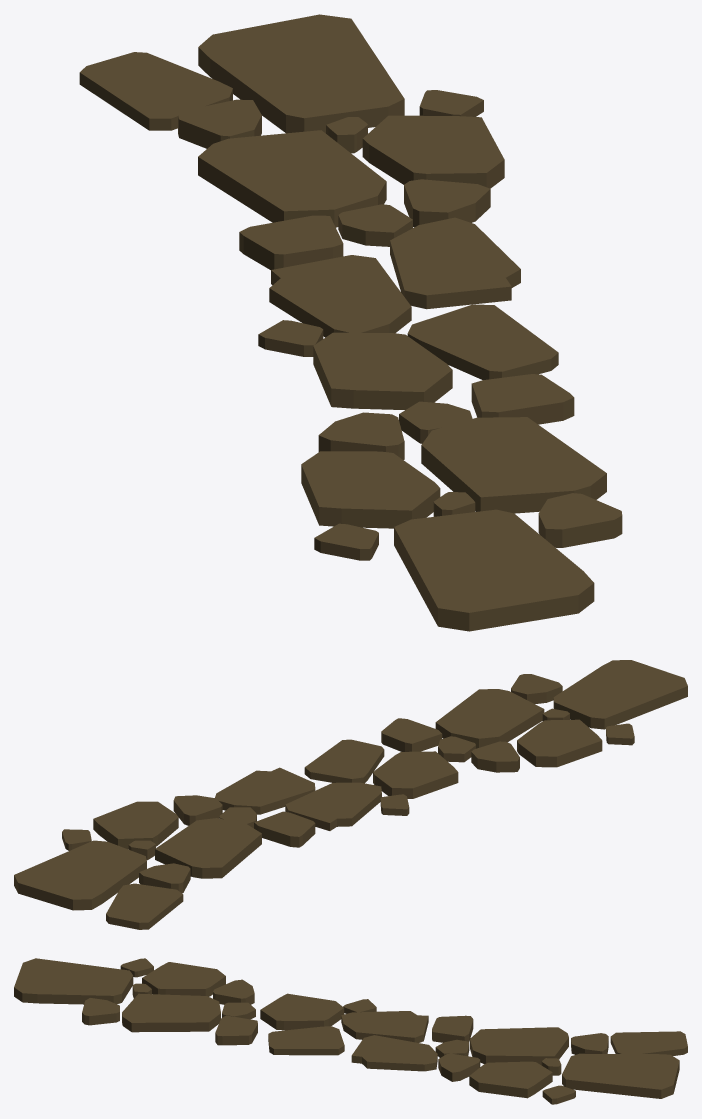
File: stone_path1.obj
3 renders of one model, top to bottom at view 1: azimuth 30°, elevation 25°; view 2: azimuth 150°, elevation 25°; view 3: azimuth 270°, elevation 25°, orthographic. The views are drawn at different scales.
Visible parts, largest first — view 1: Tile3.012_Cylinder.094; view 2: Tile3.012_Cylinder.094; view 3: Tile3.012_Cylinder.094.
Part boxes in pixels (x1=…): Tile3.012_Cylinder.094: x1=79, y1=14, x2=622, y2=631; Tile3.012_Cylinder.094: x1=14, y1=660, x2=687, y2=929; Tile3.012_Cylinder.094: x1=14, y1=958, x2=687, y2=1104.
Size of the model in its own units: 2.98 by 0.0919 by 6.04.
